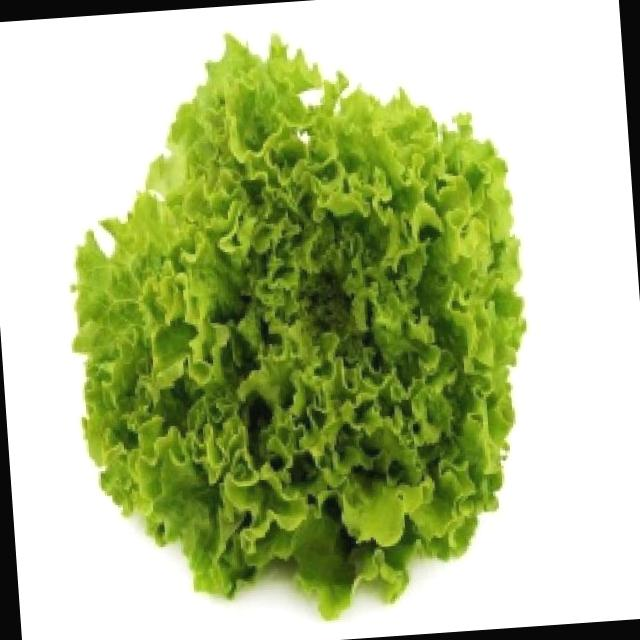Lettuce-Ready-to-Harvest: (75, 37, 524, 615)
